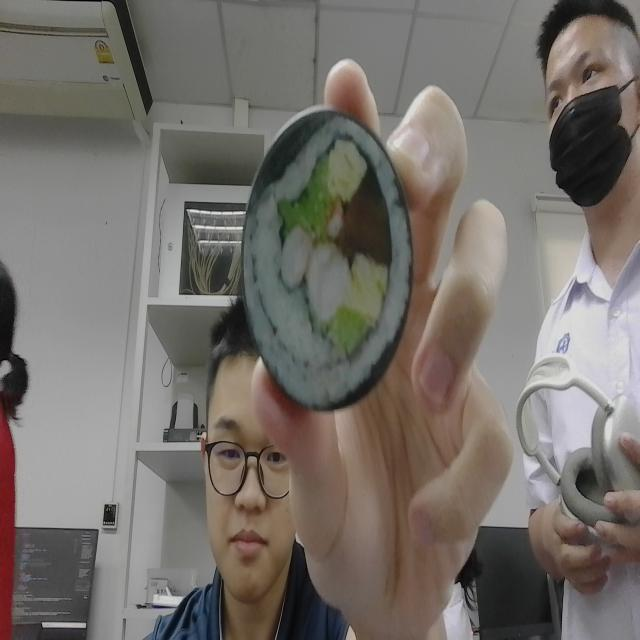sushi: (226, 92, 420, 430)
